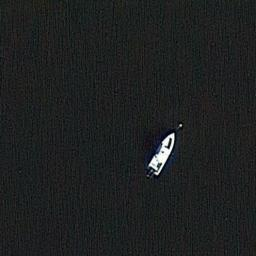boat: (145, 128, 177, 178)
